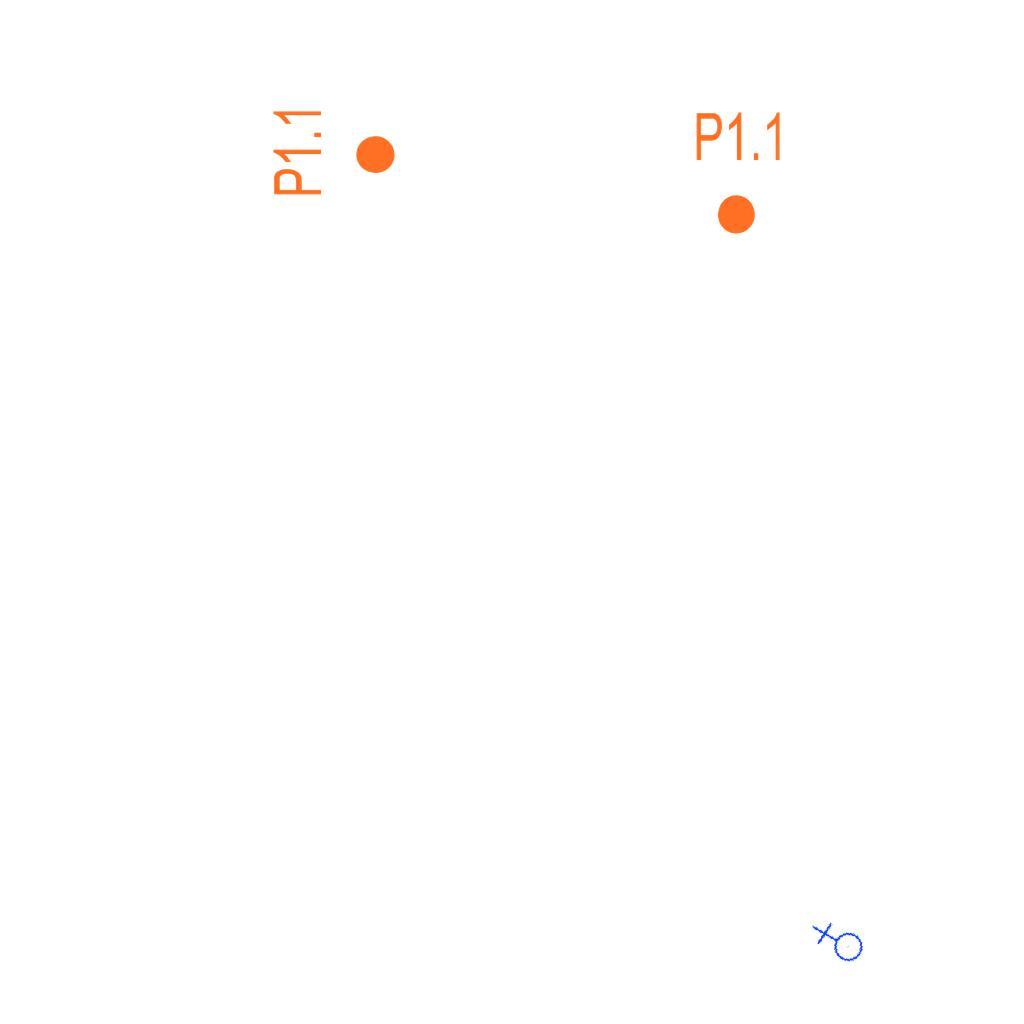Downlight_LED_Einbauleuchten_Flur: (270, 105, 398, 198), (693, 109, 786, 237)
Elektroanschluss_allgemein_230V_Geraeteanschlussdose_230V: (809, 913, 868, 974)
